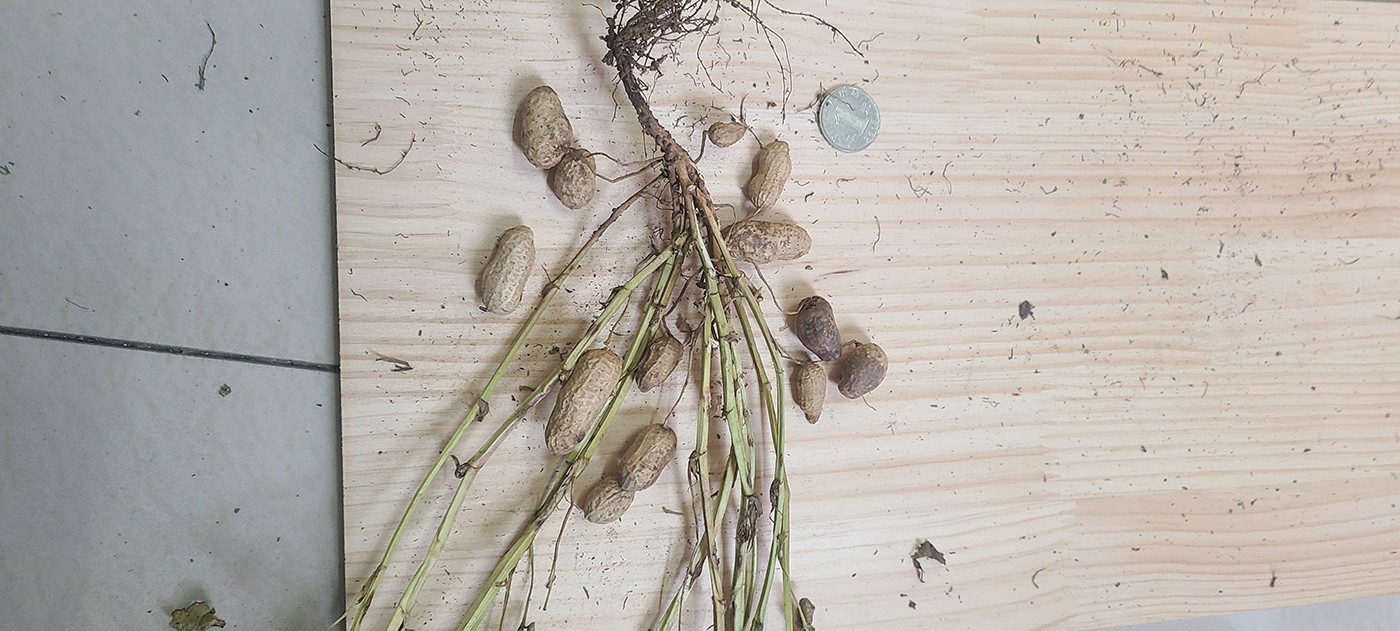h: (583, 425, 677, 526), (545, 348, 624, 456), (477, 223, 537, 314), (514, 85, 575, 169), (723, 222, 815, 262), (745, 140, 792, 212), (549, 150, 598, 209), (633, 338, 682, 393), (791, 364, 827, 426)
l: (794, 295, 845, 360), (836, 344, 890, 396)
